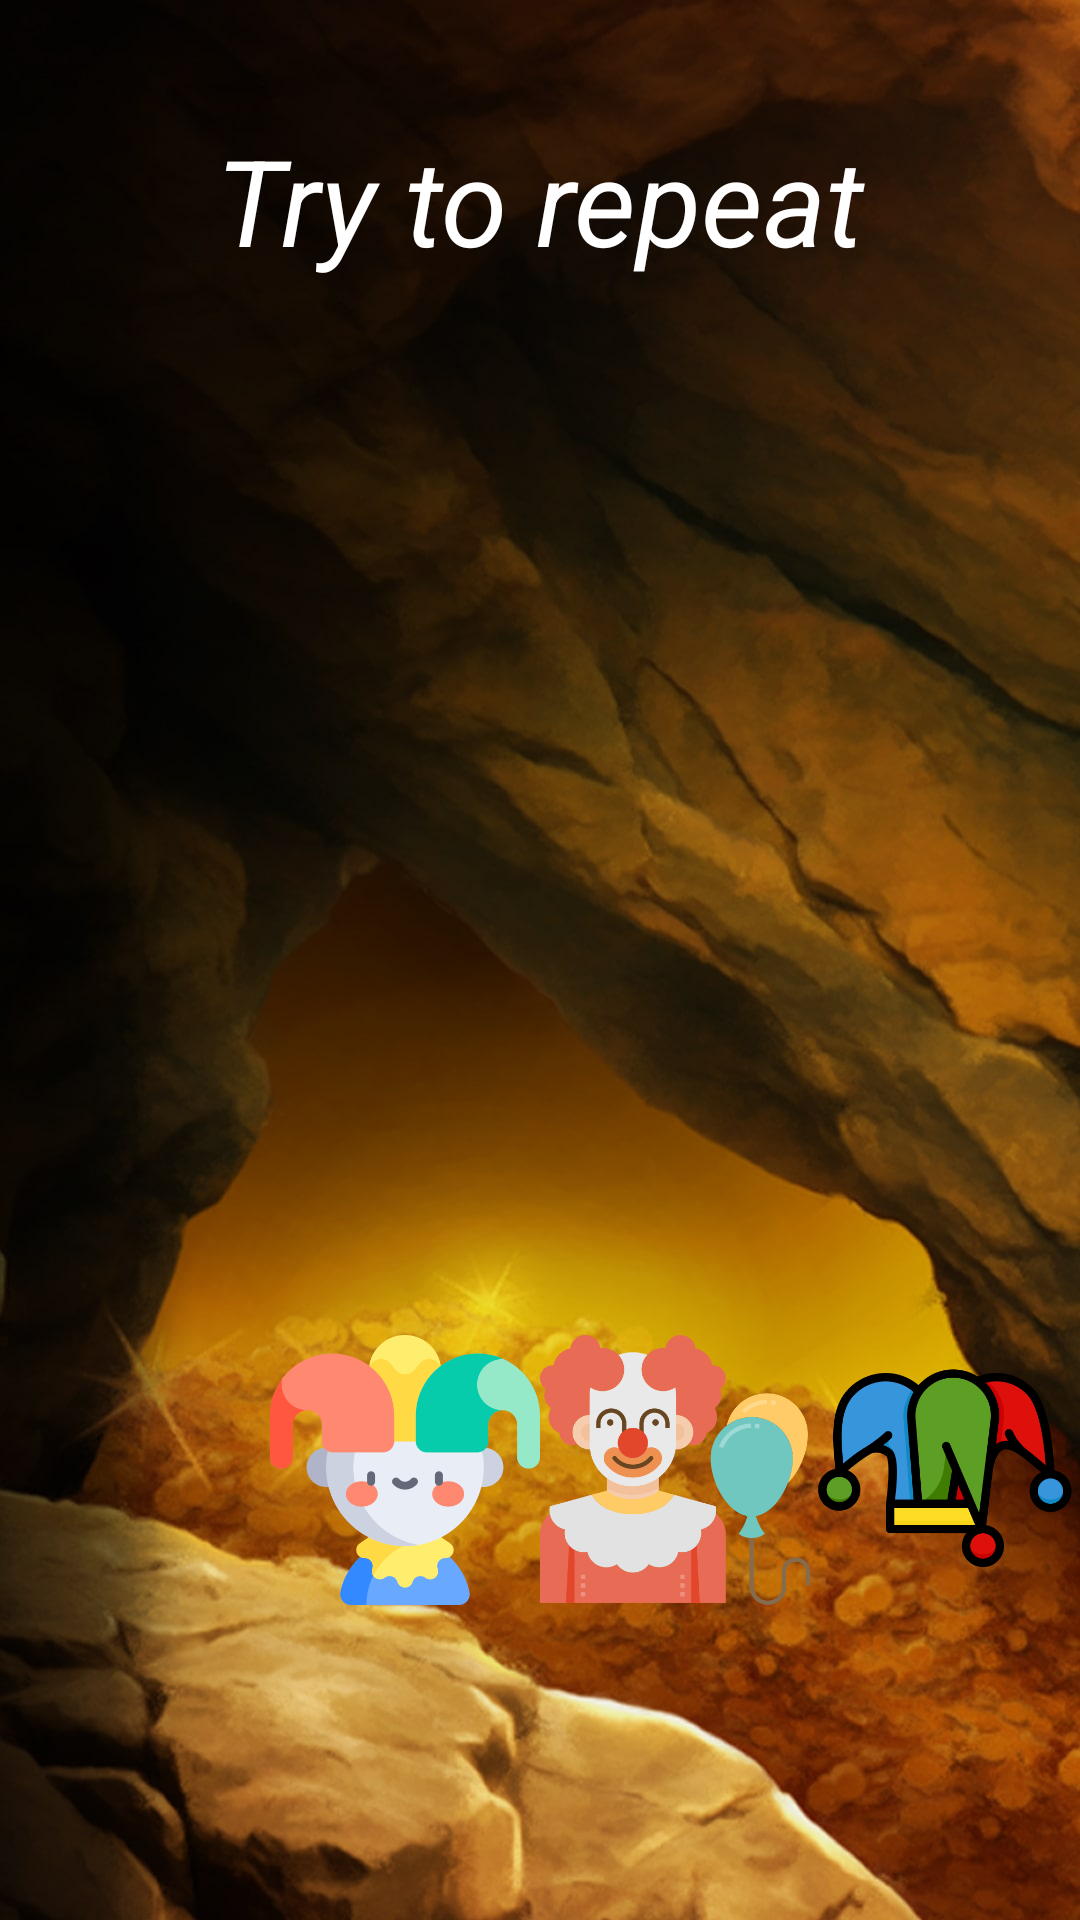

Where to tap for icons on this 1080 x 1920 app screen, as (x,y):
joker: (405,1470), (675,1470), (945,1470)
